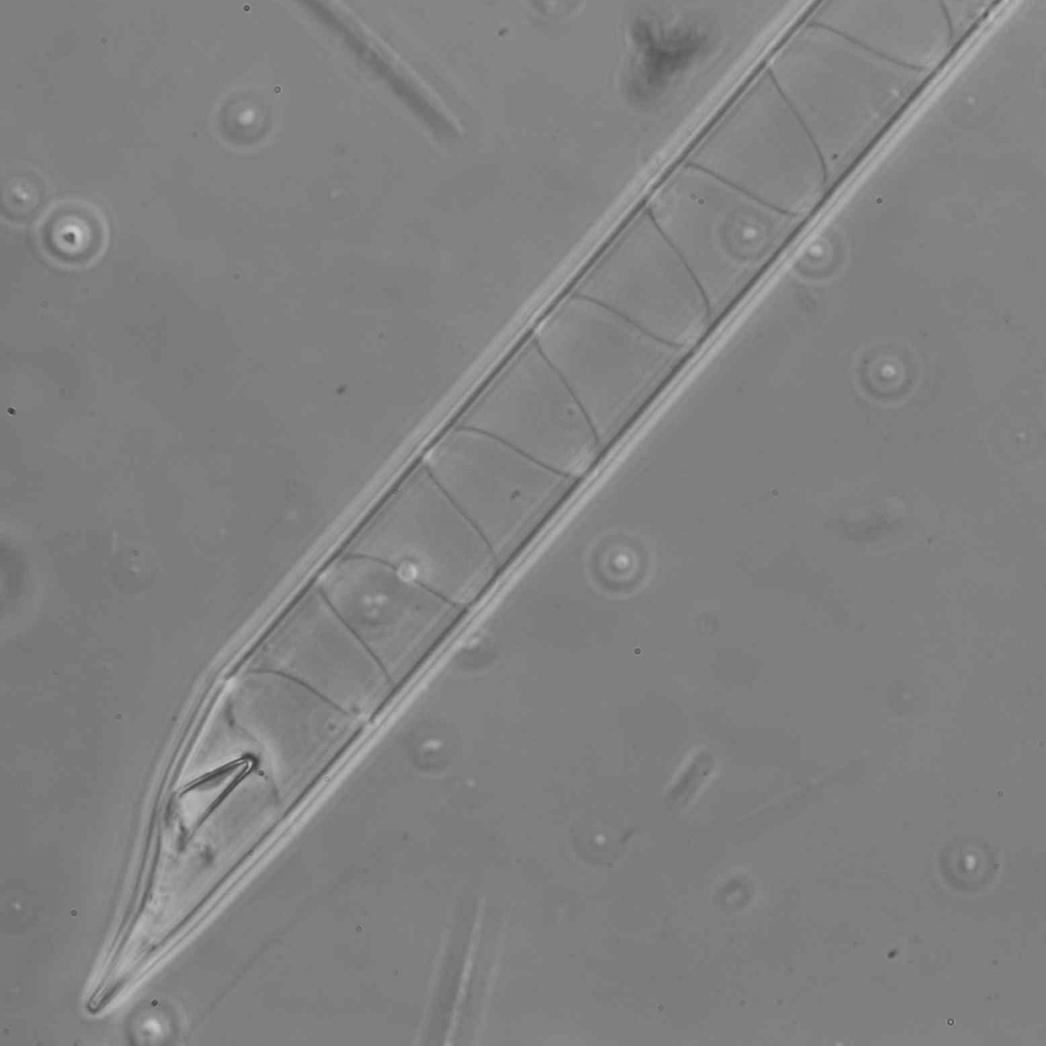proboscia_alata: (85, 0, 1011, 1014)
